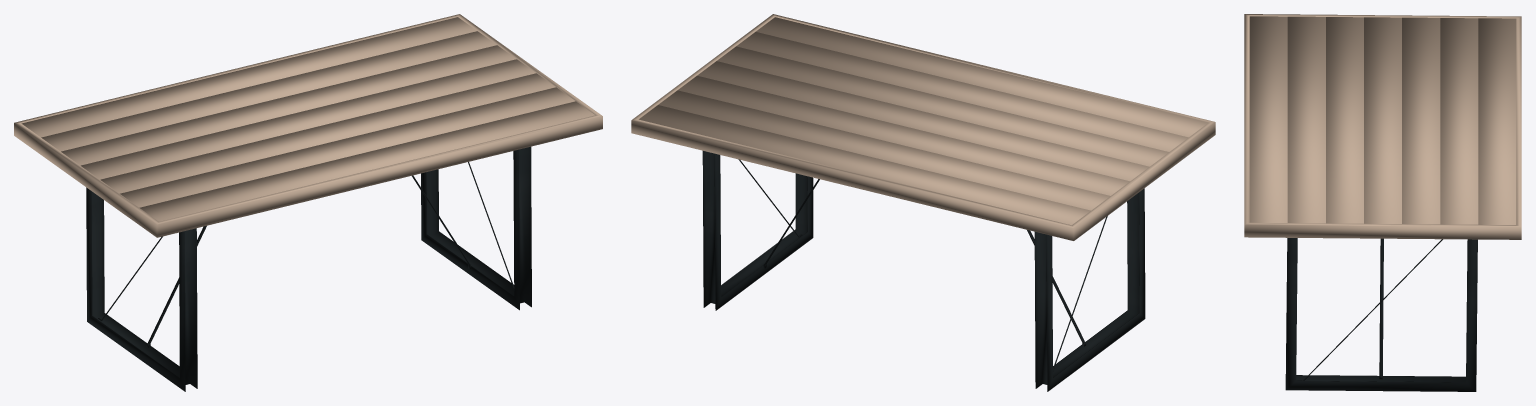
File: BlakeAvenuejoshuatreecheftable.glb
3 renders of one model, left to right at view 1: azimuth 30°, elevation 25°; view 2: azimuth 150°, elevation 25°; view 3: azimuth 270°, elevation 25°, orthographic. The views are drawn at different scales.
Visible parts, largest first — view 1: BlakeAvenuejoshuatreecheftable; view 2: BlakeAvenuejoshuatreecheftable; view 3: BlakeAvenuejoshuatreecheftable.
Part boxes in pixels (x1,y1,x2,y2): BlakeAvenuejoshuatreecheftable: [14, 14, 602, 391]; BlakeAvenuejoshuatreecheftable: [631, 14, 1215, 391]; BlakeAvenuejoshuatreecheftable: [1244, 14, 1521, 391].
Bounding box in the file's own units: 189 × 79.49 × 105.
2 materials, 1 textured.
